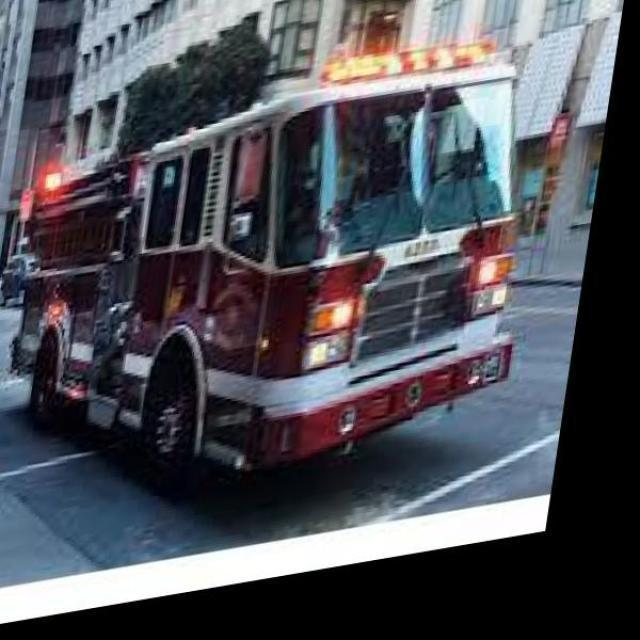emergency: (10, 39, 522, 493)
